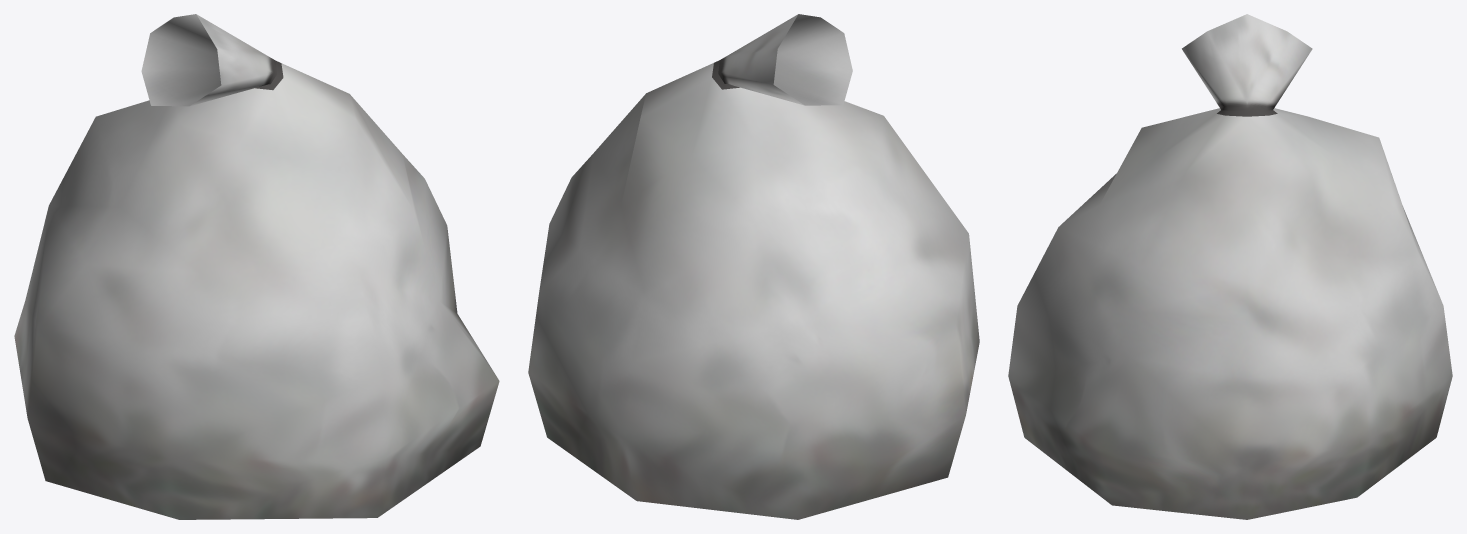
The model's file is GarbageBag_HD.fbx.
3 views of the same model, side by side, from view 1: azimuth 30°, elevation 25°; view 2: azimuth 150°, elevation 25°; view 3: azimuth 270°, elevation 25° (orthographic). The views are drawn at different scales.
Parts seen in each view (by area): view 1: GarbageBag; view 2: GarbageBag; view 3: GarbageBag.
Boxes of the visible parts, x1,y1,x2,y2 form: GarbageBag: [14, 14, 499, 519]; GarbageBag: [528, 14, 979, 519]; GarbageBag: [1008, 14, 1452, 519].
Bounding box in the file's own units: 0.7066 × 0.6758 × 0.6865.
